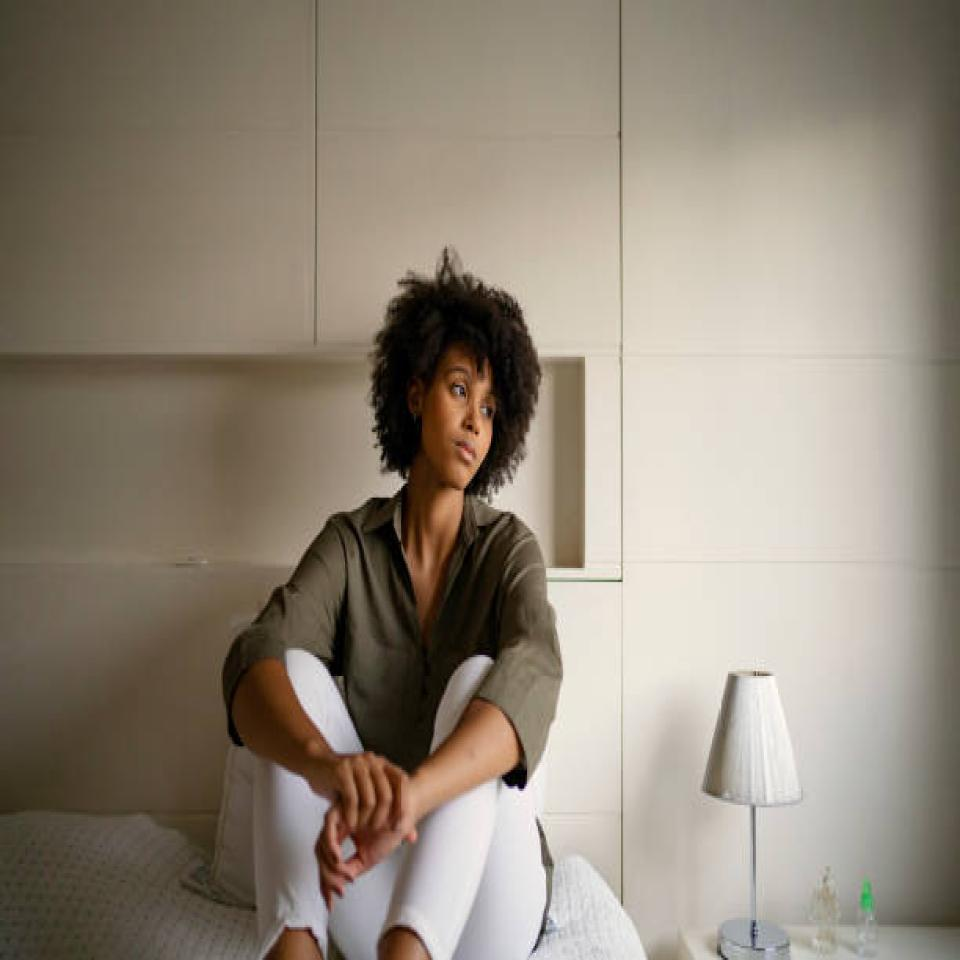Sadness: (426, 356, 494, 487)
